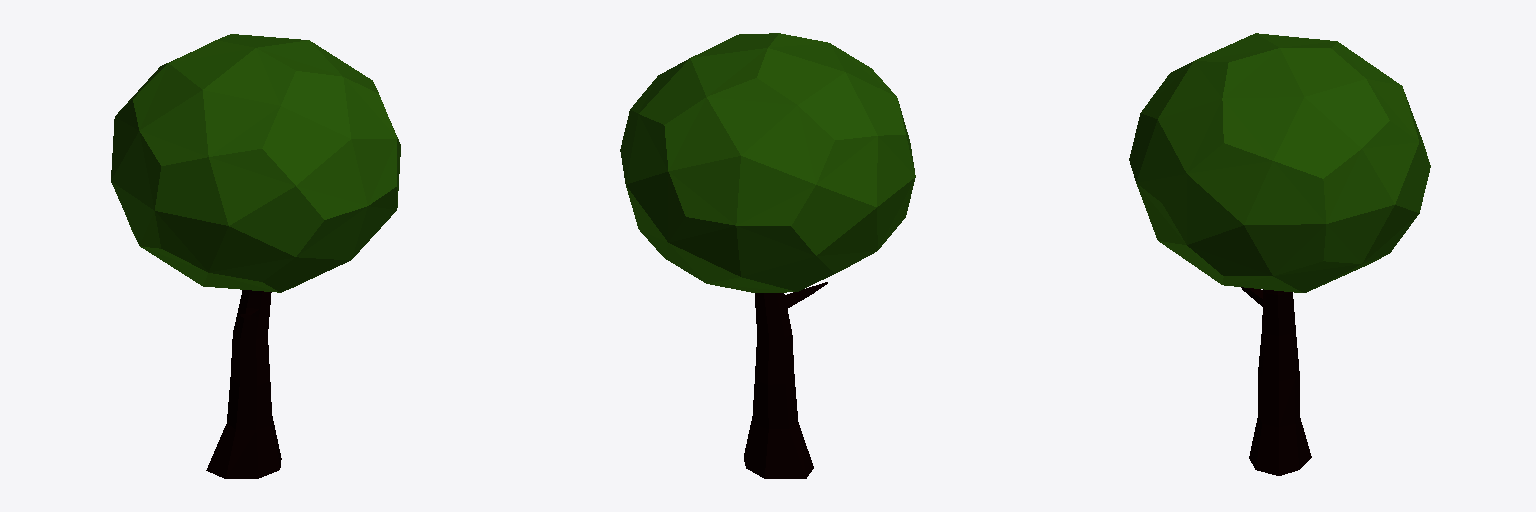
Rendered from Tree_02.obj.
3 renders of one model, left to right at view 1: azimuth 30°, elevation 25°; view 2: azimuth 150°, elevation 25°; view 3: azimuth 270°, elevation 25°, orthographic.
Parts seen in each view (by area): view 1: group23 group21 group19 pasted__pPlatonic1, pCylinder3 group23 group21 group19; view 2: group23 group21 group19 pasted__pPlatonic1, pCylinder3 group23 group21 group19; view 3: group23 group21 group19 pasted__pPlatonic1, pCylinder3 group23 group21 group19.
Part boxes in pixels (left/top/right/bottom): group23 group21 group19 pasted__pPlatonic1: left=111, top=34, right=400, bottom=292; pCylinder3 group23 group21 group19: left=206, top=290, right=281, bottom=478; group23 group21 group19 pasted__pPlatonic1: left=620, top=33, right=915, bottom=292; pCylinder3 group23 group21 group19: left=744, top=282, right=827, bottom=478; group23 group21 group19 pasted__pPlatonic1: left=1129, top=33, right=1430, bottom=292; pCylinder3 group23 group21 group19: left=1241, top=287, right=1311, bottom=475.
Size of the model in its own units: 3.72 by 5.83 by 3.83.